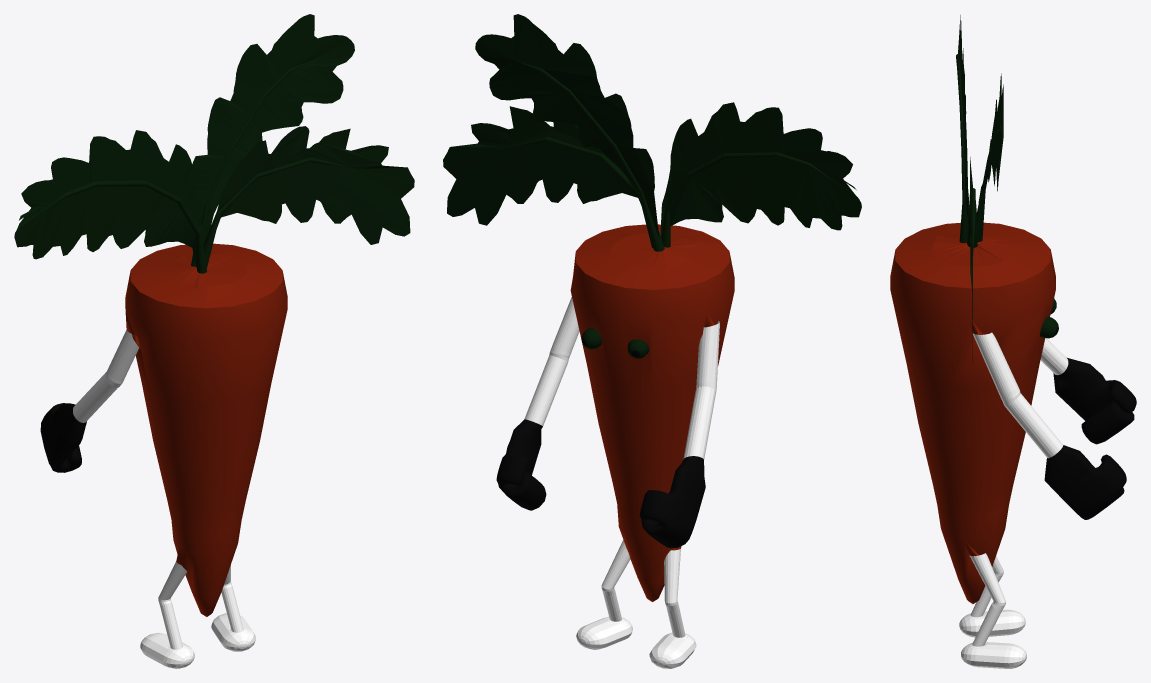
File: carotte.FBX
The picture shows the model from 3 angles, left to right: view 1: azimuth 30°, elevation 25°; view 2: azimuth 150°, elevation 25°; view 3: azimuth 270°, elevation 25°; orthographic projection. The views are drawn at different scales.
Parts seen in each view (by area): view 1: Sphere001; view 2: Sphere001; view 3: Sphere001.
Part boxes in pixels (box(x1,y1,x2,y2)): Sphere001: box(14, 14, 414, 668); Sphere001: box(443, 14, 861, 668); Sphere001: box(890, 15, 1136, 668).
Bounding box in the file's own units: 114 × 163 × 58.56.
